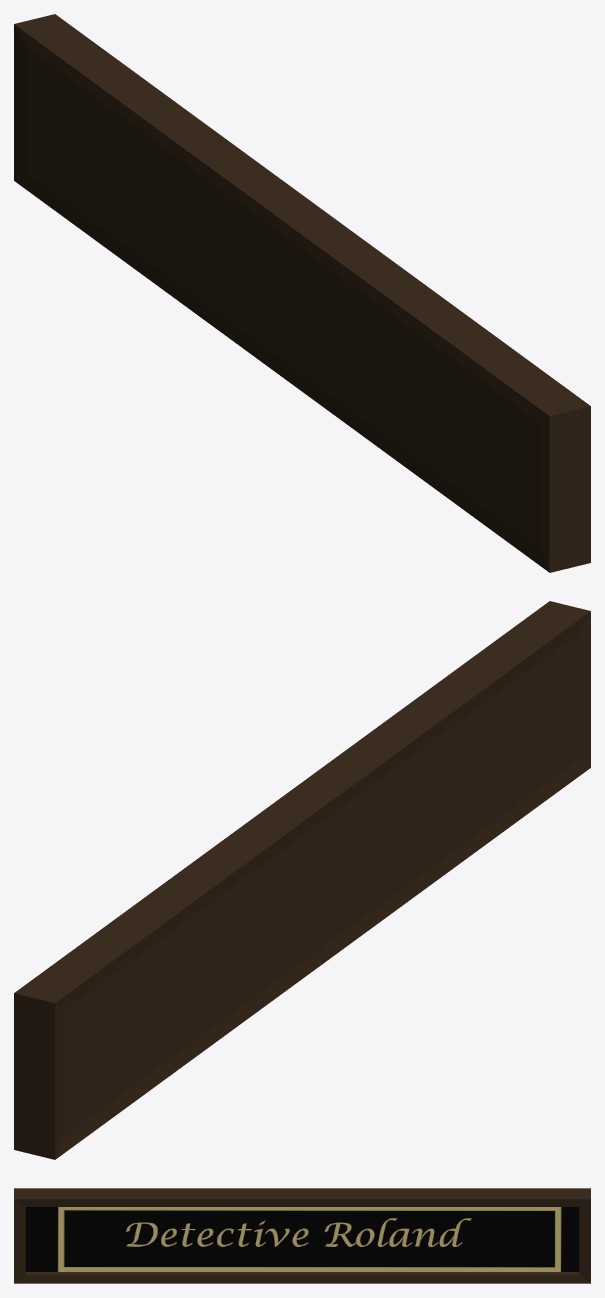
Rendered from PD_DeskNameTag.fbx.
3 renders of one model, top to bottom at view 1: azimuth 30°, elevation 25°; view 2: azimuth 150°, elevation 25°; view 3: azimuth 270°, elevation 25°, orthographic. The views are drawn at different scales.
Parts seen in each view (by area): view 1: pCube5; view 2: pCube5; view 3: pCube5.
Part boxes in pixels (box(x1,y1,x2,y2)): pCube5: box(14, 14, 590, 572); pCube5: box(14, 601, 590, 1159); pCube5: box(14, 1188, 590, 1283).
Size of the model in its own units: 0.8543 by 3.11 by 19.24.
1 material, 1 textured.
